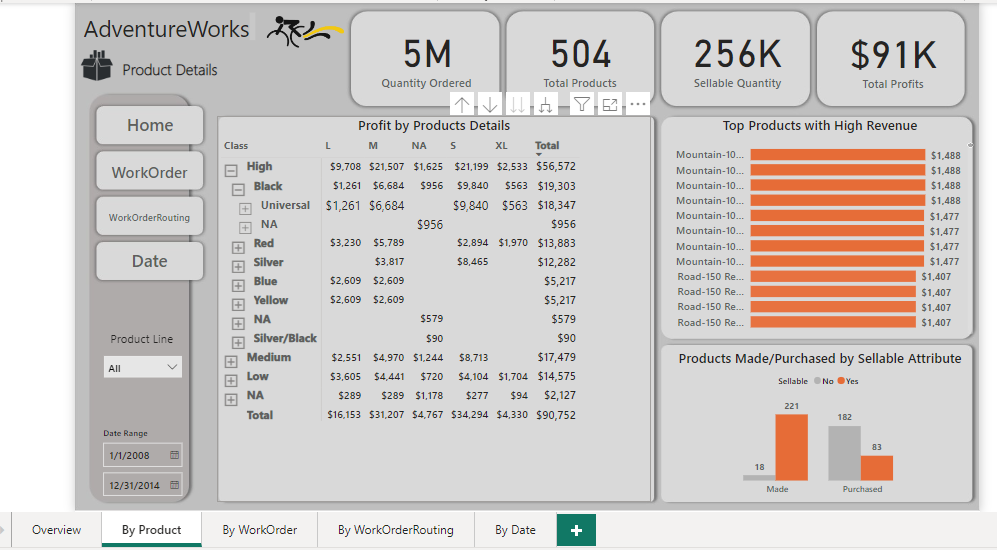

This screenshot's page, from the dashboard's own definition file:
{"tool":"powerbi","page":{"name":"By Product","canvas":[1280,720],"ordinal":1},"visuals":[{"type":"card","fields":{"Values":["All Mesures.Total Units"]},"box":[613.9,8.5,200.9,131.6],"z":0},{"type":"card","fields":{"Values":["All Mesures.Total Profits"]},"box":[1053.8,12.7,206.5,127.3],"z":1000},{"type":"card","fields":{"Values":["Sum(Production_WorkOrder.OrderQty)"]},"box":[398.9,8.5,196.6,131.6],"z":2000},{"type":"card","fields":{"Values":["All Measures.Sold Qty"]},"box":[831.7,8.5,210.8,131.6],"z":3000},{"type":"textbox","box":[7.1,8.5,253.2,50.9],"z":4000},{"type":"image","box":[260.3,8.5,127.3,65.1],"z":5000},{"type":"pivotTable","title":"Profit by Products Details","fields":{"Rows":["Production_Product.Class","Production_Product.Name","Production_Product.Size","Production_Product.Style"],"Columns":["Production_Product.Color"],"Values":["Sum(Production_Product.Profit)"]},"box":[200.9,159.8,613.9,546],"z":6000},{"type":"clusteredBarChart","title":"Top Products with High Revenue","fields":{"Category":["Production_Product.Name"],"Y":["All Measures.Total Profits"]},"box":[831.7,159.8,444.2,314],"z":7000},{"type":"clusteredColumnChart","title":"Products Made/Purchased by Sellable Attribute","fields":{"Category":["Production_Product.Made/Purchased"],"Y":["CountNonNull(Production_Product.ProductID)"],"Series":["Production_Product.Sellable"]},"box":[831.7,489.4,444.2,216.4],"z":8000},{"type":"textbox","box":[58,73.6,152.8,41],"z":9000},{"type":"image","box":[0,59.4,60.8,58],"z":10000},{"type":"actionButton","title":"Active P","box":[31.1,140,149.9,62.2],"z":11000},{"type":"actionButton","title":"Active WO","box":[35.4,212.2,140,52.3],"z":12000},{"type":"actionButton","title":"Active WOR","box":[35.4,275.8,140,52.3],"z":13000},{"type":"actionButton","title":"Actice D","box":[35.4,333.8,140,59.4],"z":14000},{"type":"slicer","fields":{"Values":["Calendar.Date"]},"box":[26.9,594.1,130.1,110.3],"z":15000},{"type":"slicer","title":"Filter by Product Line","fields":{"Values":["Production_Product.ProductLine"]},"box":[31.1,489.4,130.1,53.8],"z":16000},{"type":"textbox","box":[26.9,455.5,130.1,36.8],"z":17000}]}

Visuals, with their boxes on the page's 1280x720 design canvas (x1, y1, x2, y2). These are canvas units, not pixel positions in the 997x550 screenshot, which may show the page scaled, cropped or inside an application window:
card - All Mesures.Total Units: (left=614, top=8, right=815, bottom=140)
card - All Mesures.Total Profits: (left=1054, top=13, right=1260, bottom=140)
card - Sum(Production_WorkOrder.OrderQty): (left=399, top=8, right=596, bottom=140)
card - All Measures.Sold Qty: (left=832, top=8, right=1042, bottom=140)
textbox: (left=7, top=8, right=260, bottom=59)
image: (left=260, top=8, right=388, bottom=74)
"Profit by Products Details" pivotTable: (left=201, top=160, right=815, bottom=706)
"Top Products with High Revenue" clusteredBarChart: (left=832, top=160, right=1276, bottom=474)
"Products Made/Purchased by Sellable Attribute" clusteredColumnChart: (left=832, top=489, right=1276, bottom=706)
textbox: (left=58, top=74, right=211, bottom=115)
image: (left=0, top=59, right=61, bottom=117)
"Active P" actionButton: (left=31, top=140, right=181, bottom=202)
"Active WO" actionButton: (left=35, top=212, right=175, bottom=264)
"Active WOR" actionButton: (left=35, top=276, right=175, bottom=328)
"Actice D" actionButton: (left=35, top=334, right=175, bottom=393)
slicer - Calendar.Date: (left=27, top=594, right=157, bottom=704)
"Filter by Product Line" slicer: (left=31, top=489, right=161, bottom=543)
textbox: (left=27, top=456, right=157, bottom=492)
